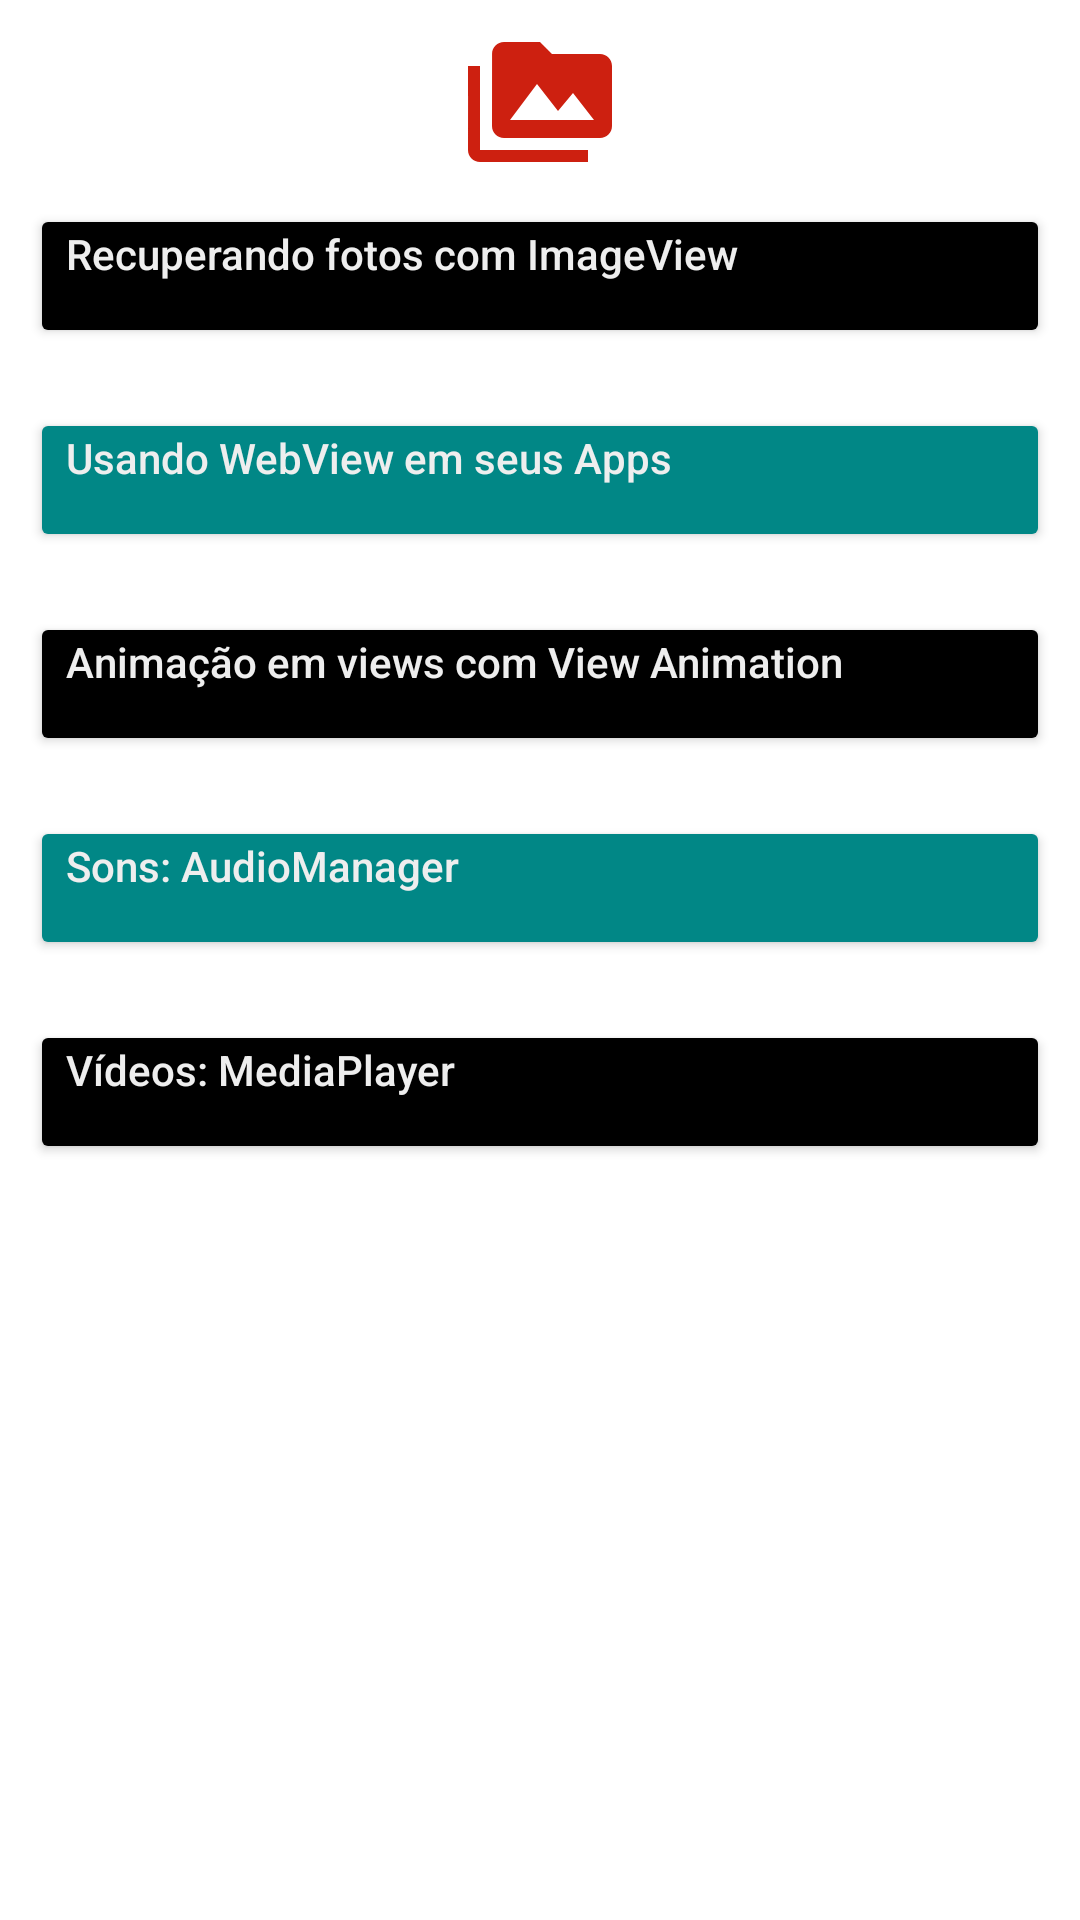

Where to tap for icons on this 1080x1920 app screen, as (x,y):
perm media: (540,102)
